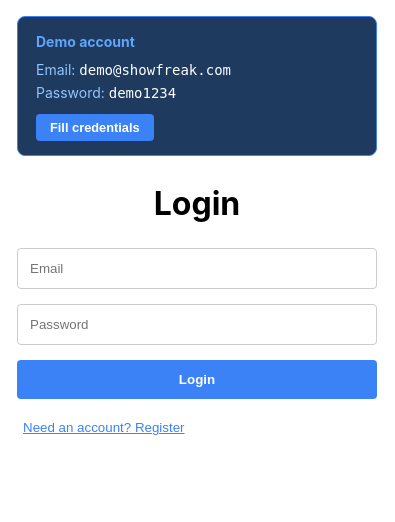
AuthPage › shows an error message when login fails
Type "test@example.com" into the field with placeholder "Email". click: {"x": 197, "y": 269}
box: [17,248,377,289]
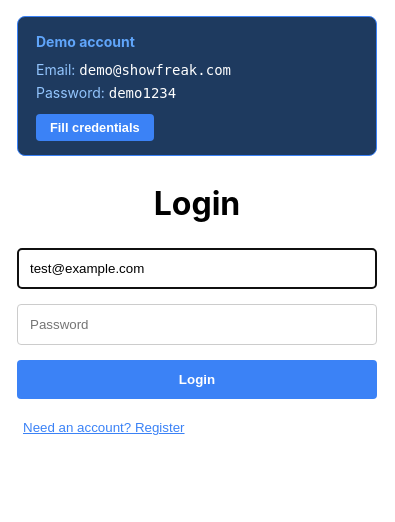
Type "wrongpass" into the password field with placeholder "Password". click: {"x": 197, "y": 325}
box: [17,304,377,345]
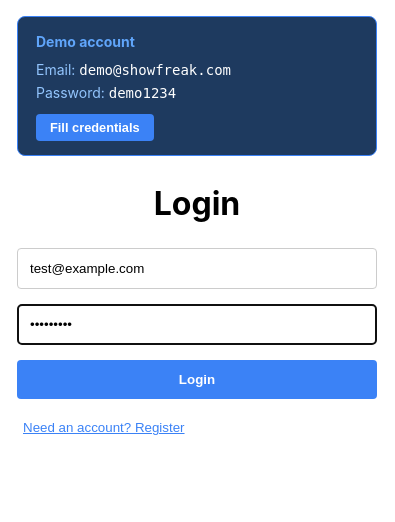
Click the button "Login". click: {"x": 197, "y": 380}
box: [17,360,377,399]
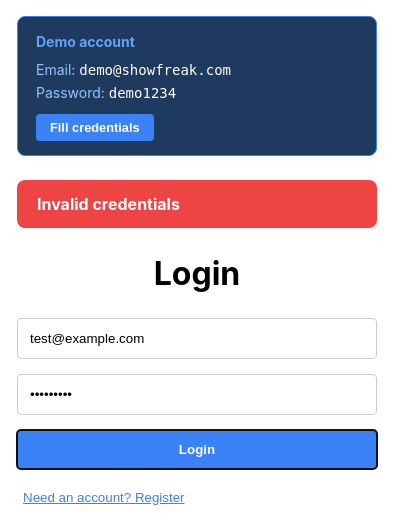
Expected: the text "Invalid credentials" is shown, [17,180,377,228]
